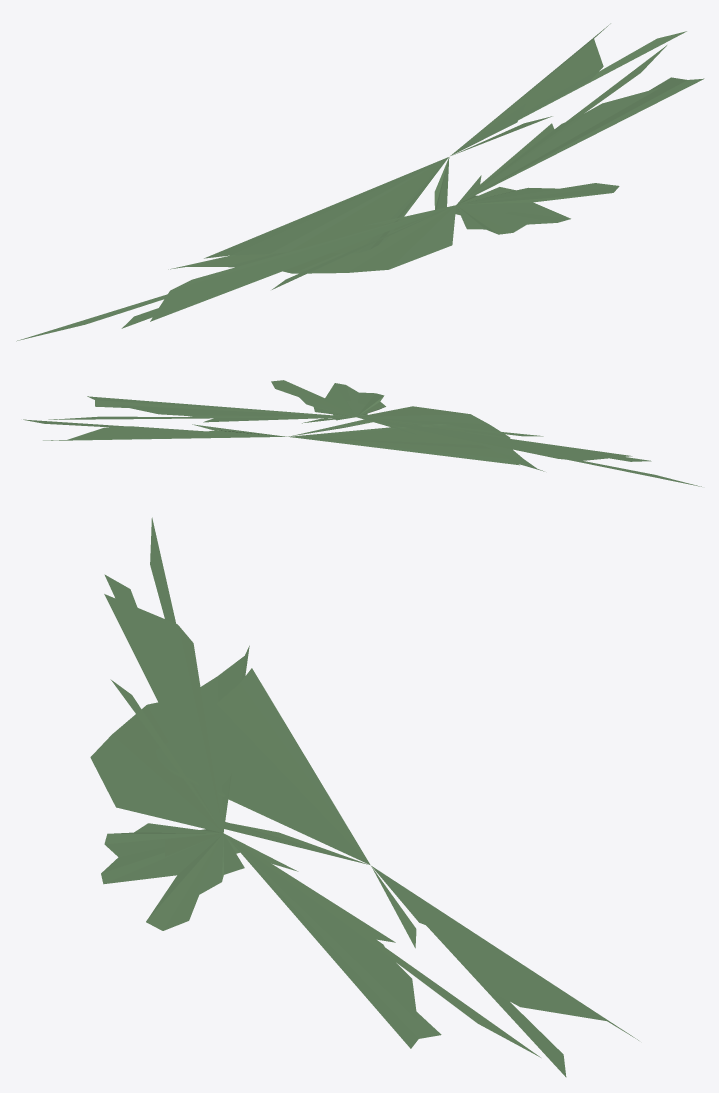
Rendered from c_1628_17832_forest.glb.
3 renders of one model, top to bottom at view 1: azimuth 30°, elevation 25°; view 2: azimuth 150°, elevation 25°; view 3: azimuth 270°, elevation 25°, orthographic. The views are drawn at different scales.
Parts seen in each view (by area): view 1: geometry_0; view 2: geometry_0; view 3: geometry_0.
Part boxes in pixels (left/top/right/bottom): geometry_0: left=16, top=23, right=704, bottom=341; geometry_0: left=23, top=380, right=701, bottom=486; geometry_0: left=90, top=517, right=638, bottom=1077.
Size of the model in its own units: 910 by 6.34 by 385.
